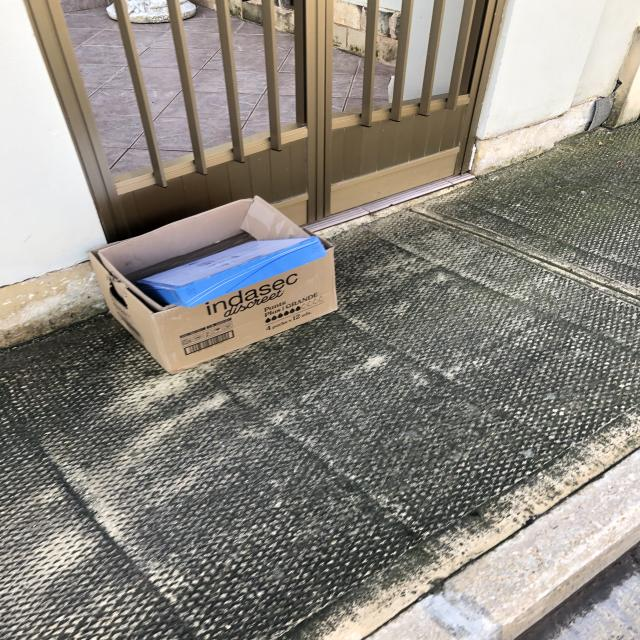Other: (88, 191, 345, 378), (141, 236, 328, 311)
